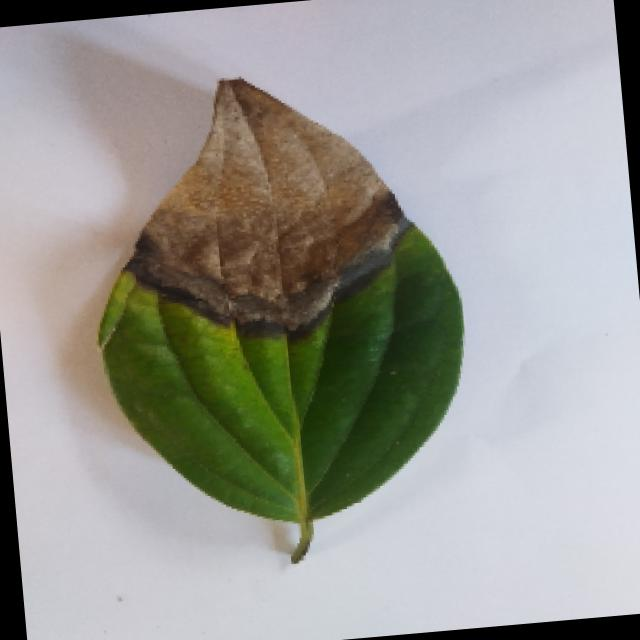footrot: (71, 56, 480, 582)
